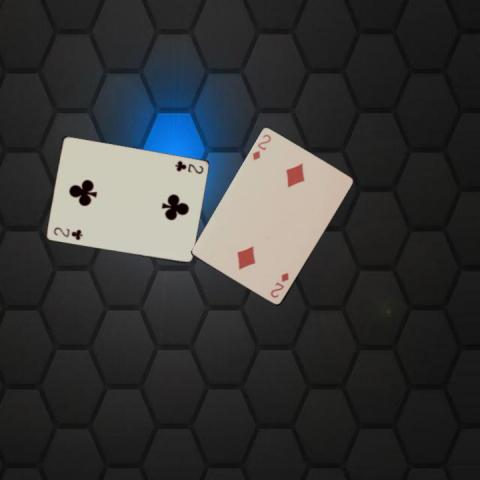2c: (171, 158, 205, 175), (50, 225, 84, 241)
2d: (249, 131, 273, 162), (267, 269, 290, 300)
